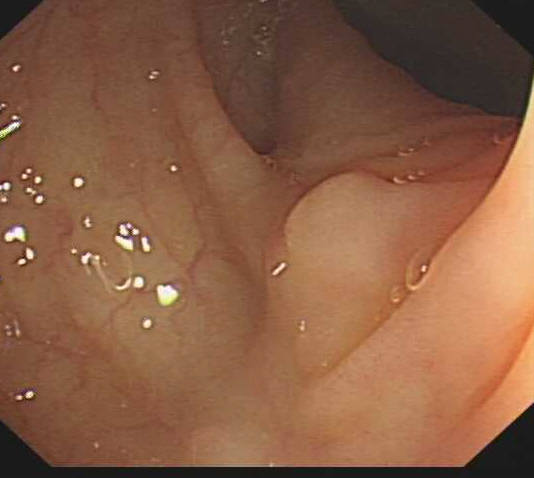adenoma: (282, 169, 429, 276)
